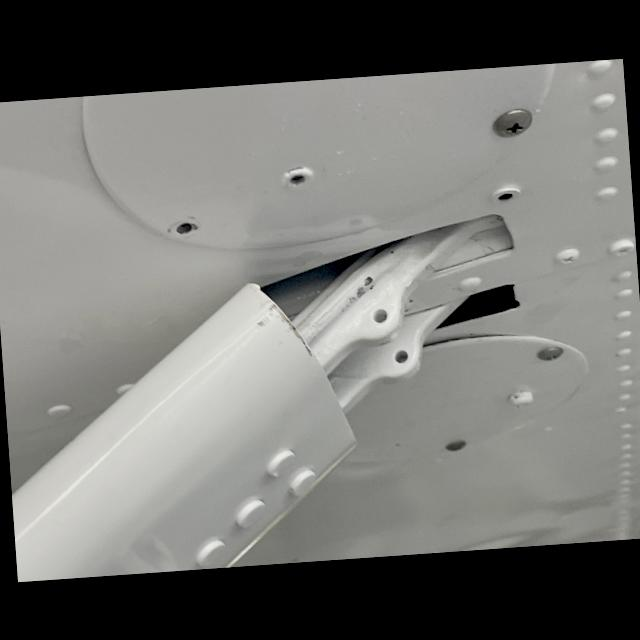Missing Fastener: (162, 212, 212, 240)
